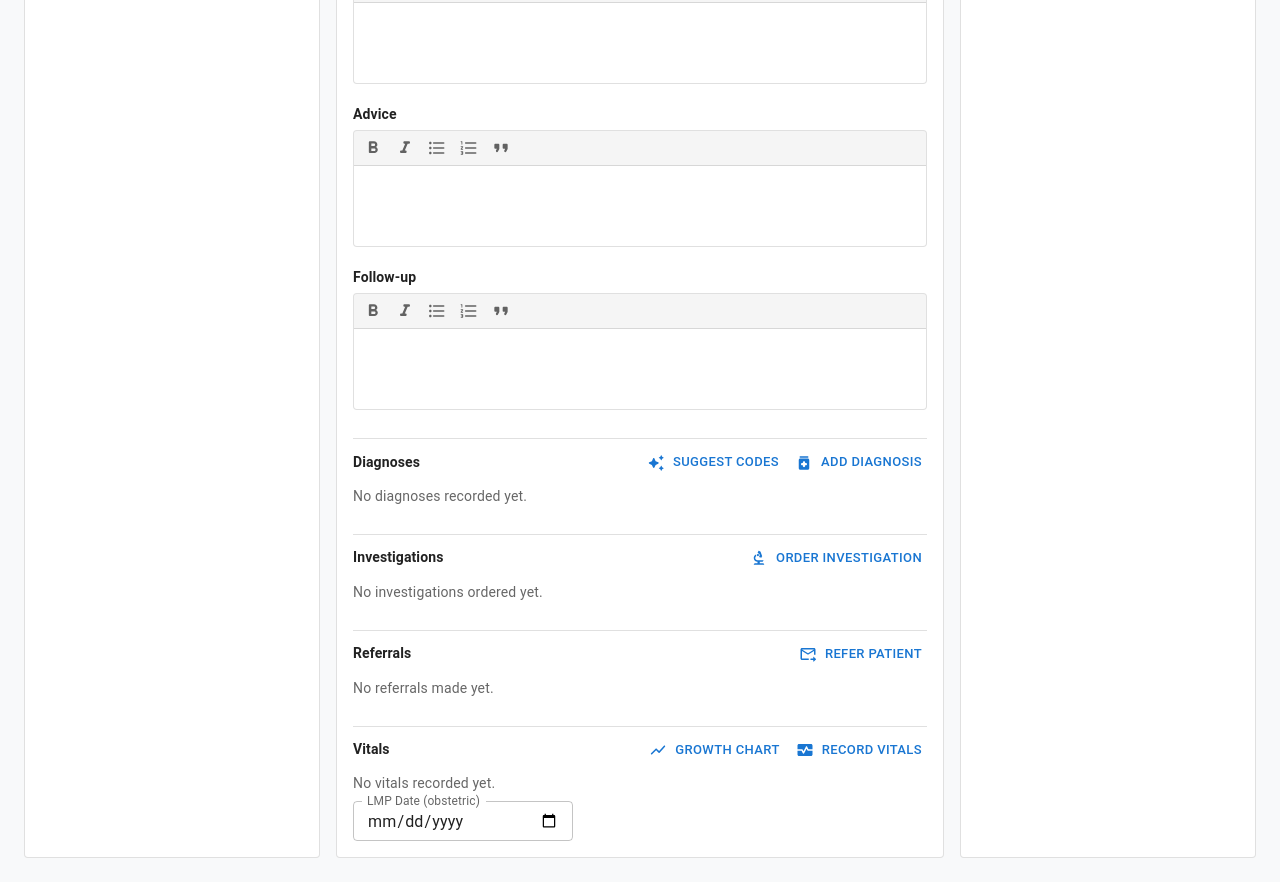
Test: EncounterWorkspace — diagnoses + save-as-template (A-5/A-6) › shows AI code suggestions and pre-fills the Add Diagnosis dialog from a suggestion, without auto-saving it
(page scrolled)
Check: the text "No diagnoses recorded yet." is shown, box [353,488,527,504]
Click the button "Suggest Codes": (714, 463) [644,447,784,478]
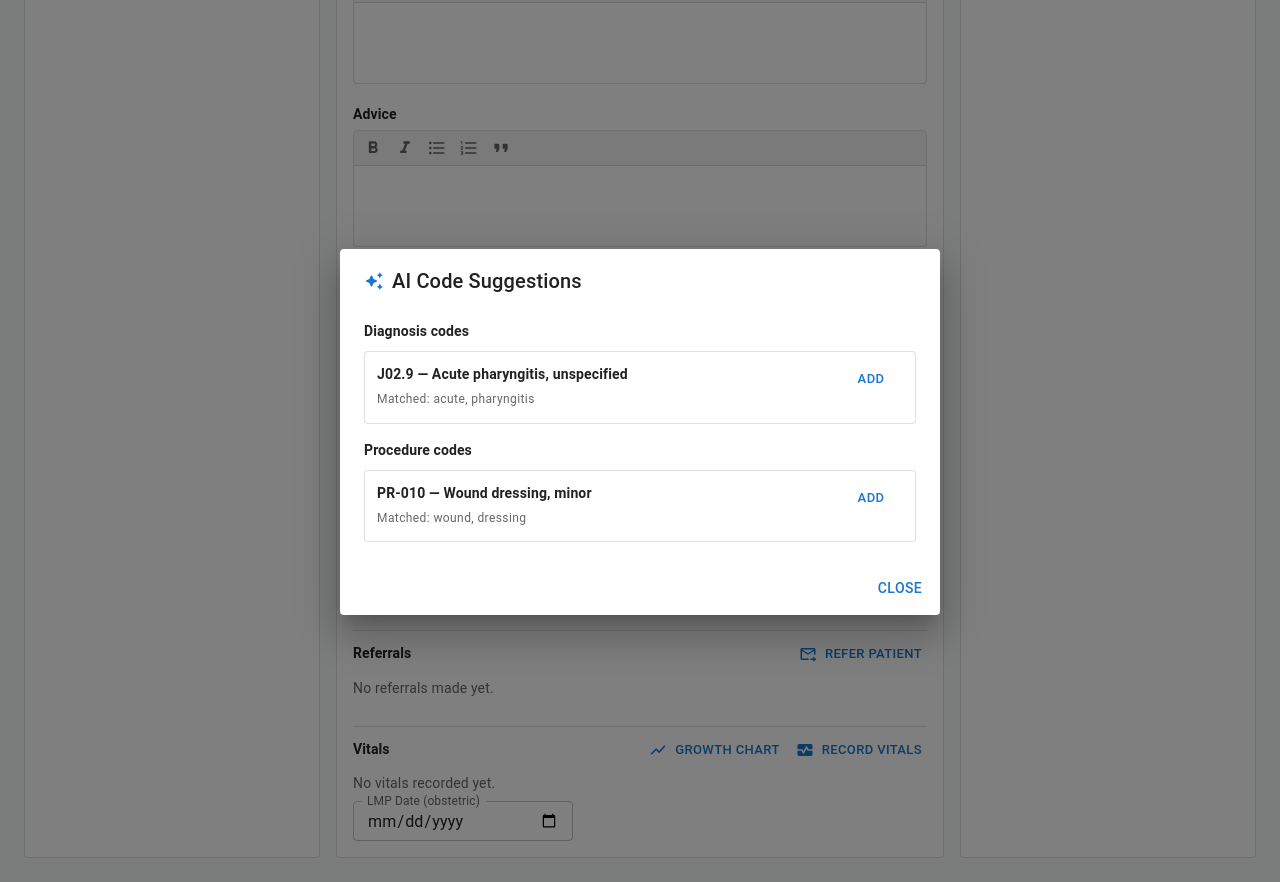
Check: the text "J02.9 — Acute pharyngitis, unspecified" is shown, box [377,364,628,384]
Check: the text "PR-010 — Wound dressing, minor" is shown, box [377,483,592,503]
Check: the text "Matched: acute, pharyngitis" is shown, box [377,392,535,406]
Click the button "Add" in the row of "Acute pharyngitis, unspecified": (871, 380) [839,364,903,395]
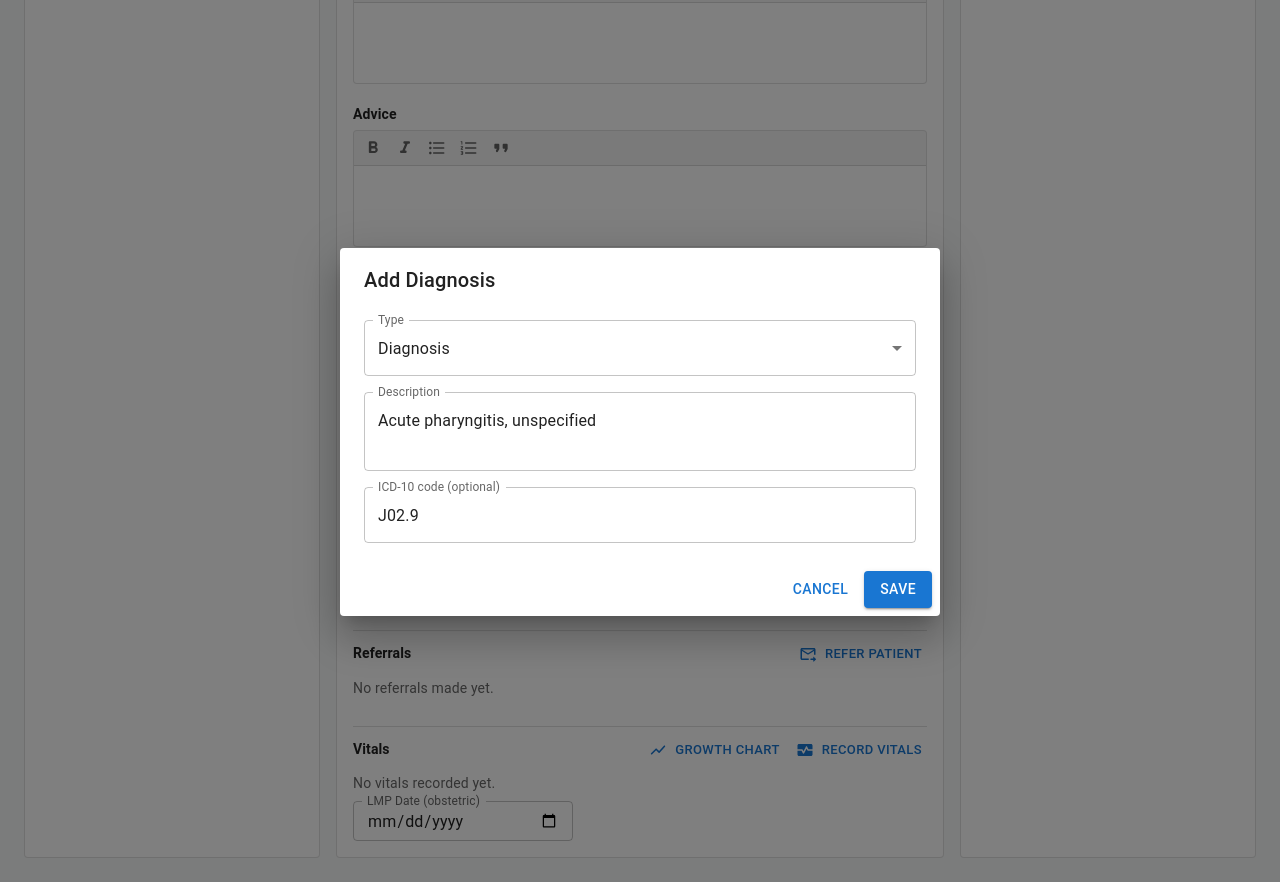
Check: the text "No diagnoses recorded yet." is shown, box [353,488,527,504]
Check: the text box labelled "Description" holds "Acute pharyngitis, unspecified", box [378,409,902,455]
Check: the dropdown showing "J02.9" is shown, box [373,496,877,534]
